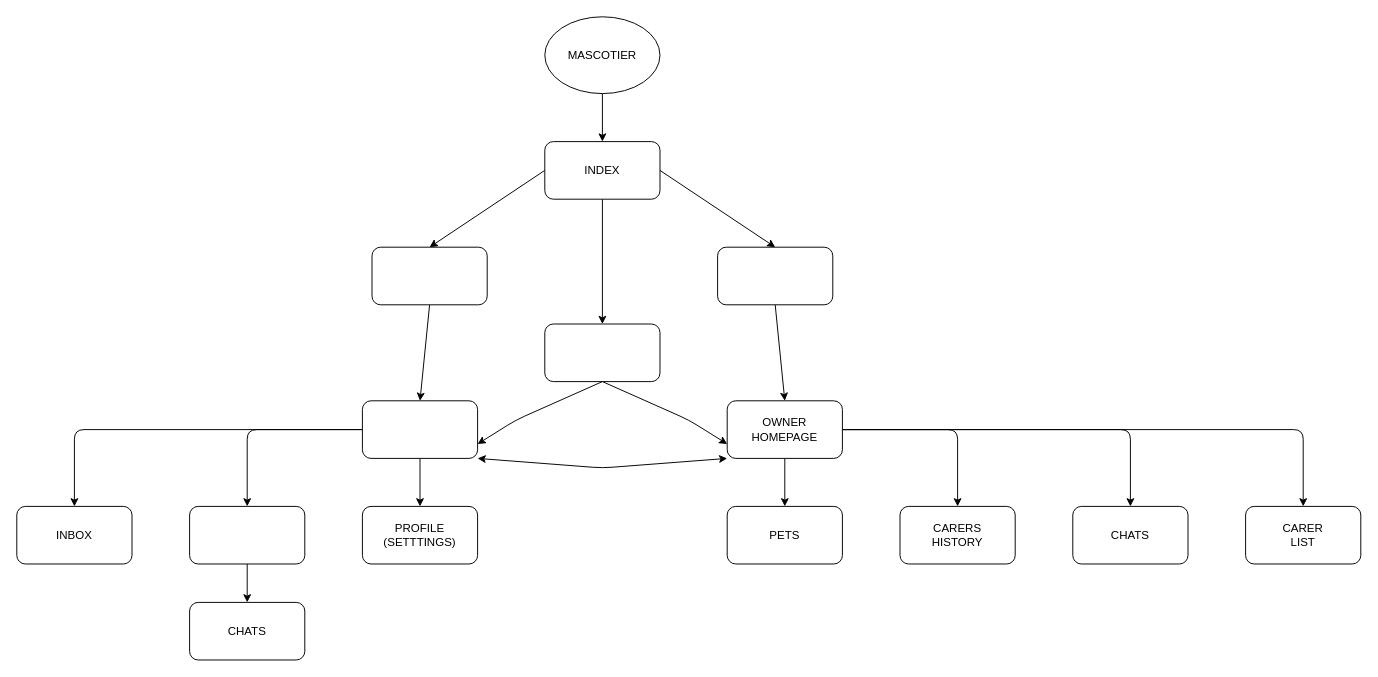
The diagram is 1378 pixels wide and 677 high, and some of its shapes have lost their labels. Here are the shapes that lost their labels. From the top down, the centre of each, then its label:
the point at 429,275: CARER SING UP
the point at 775,275: OWNER SING UP
the point at 602,352: LOGIN
the point at 419,429: CARER HOMEPAGE
the point at 247,534: OPEN REQUESTS
